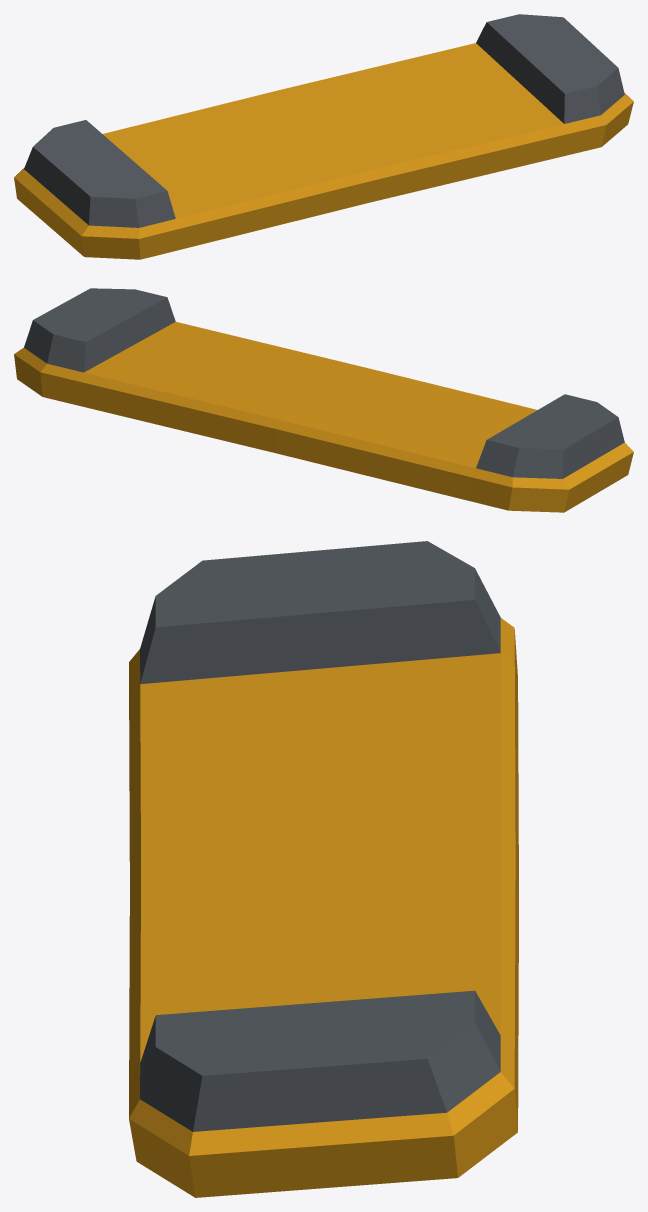
File: Mothership_01_Detail_3_Yellow.fbx
3 views of the same model, one above another, from view 1: azimuth 30°, elevation 25°; view 2: azimuth 150°, elevation 25°; view 3: azimuth 270°, elevation 25° (orthographic). The views are drawn at different scales.
Parts seen in each view (by area): view 1: Mothership_01_Detail_3_Yellow; view 2: Mothership_01_Detail_3_Yellow; view 3: Mothership_01_Detail_3_Yellow.
Part boxes in pixels (x1=…): Mothership_01_Detail_3_Yellow: x1=14, y1=14, x2=633, y2=259; Mothership_01_Detail_3_Yellow: x1=14, y1=288, x2=633, y2=512; Mothership_01_Detail_3_Yellow: x1=129, y1=541, x2=518, y2=1197.
Size of the model in its own units: 1299 by 158 by 395.
1 material, 1 textured.
